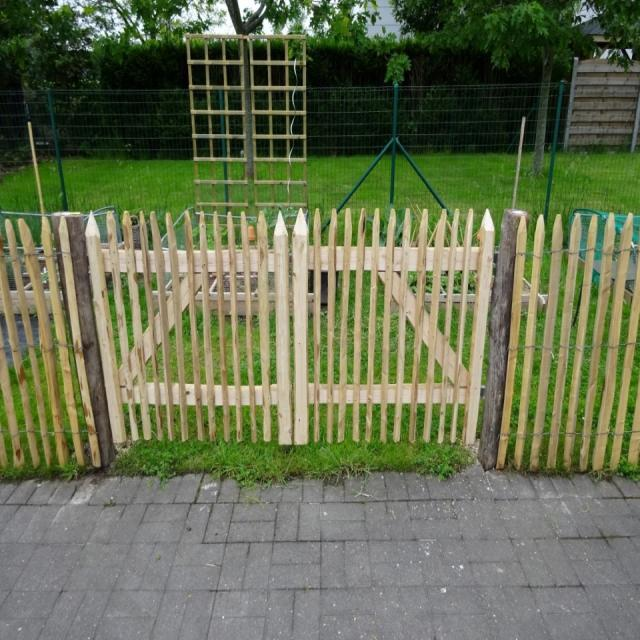fence line: (3, 211, 640, 488), (4, 83, 639, 232)
